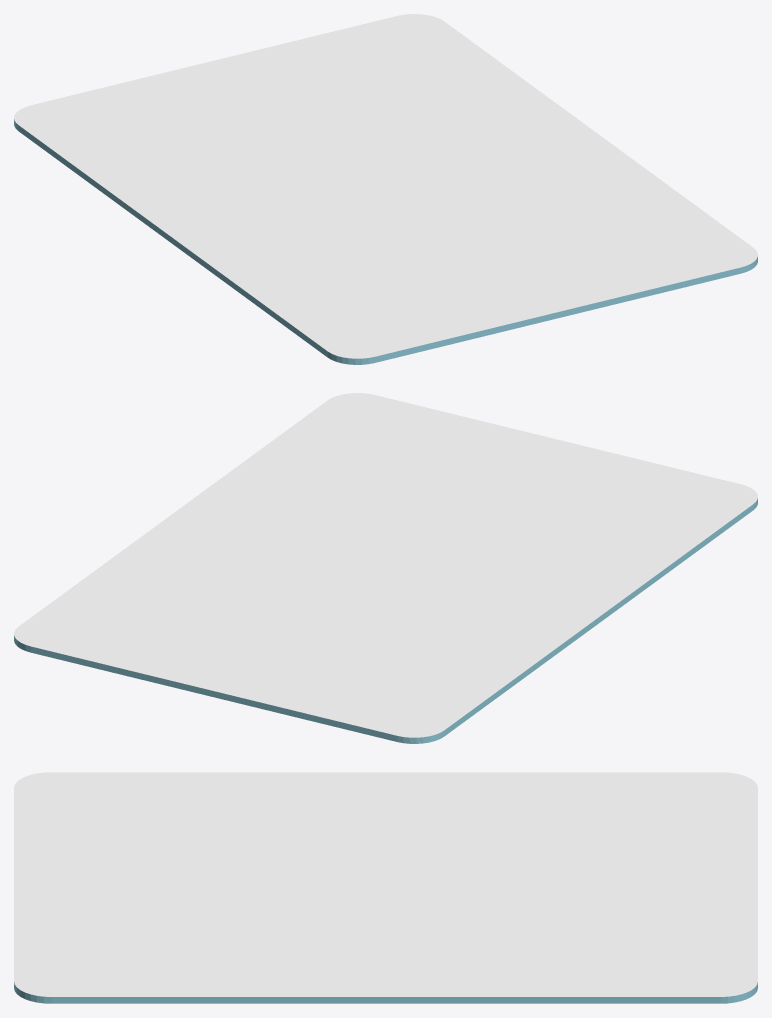
Rendered from card_shatter_10.glb.
3 renders of one model, top to bottom at view 1: azimuth 30°, elevation 25°; view 2: azimuth 150°, elevation 25°; view 3: azimuth 270°, elevation 25°, orthographic. The views are drawn at different scales.
Parts seen in each view (by area): view 1: V10_CardPiece_04, V10_CardPiece_06, V10_CardPiece_01, V10_CardPiece_05, V10_CardPiece_02, V10_CardPiece_03, V10_CardPiece_10, V10_CardPiece_08, V10_CardPiece_09, V10_CardPiece_07; view 2: V10_CardPiece_06, V10_CardPiece_04, V10_CardPiece_05, V10_CardPiece_01, V10_CardPiece_08, V10_CardPiece_10, V10_CardPiece_02, V10_CardPiece_03, V10_CardPiece_09, V10_CardPiece_07; view 3: V10_CardPiece_05, V10_CardPiece_04, V10_CardPiece_06, V10_CardPiece_10, V10_CardPiece_01, V10_CardPiece_08, V10_CardPiece_02, V10_CardPiece_03, V10_CardPiece_09, V10_CardPiece_07.
Part boxes in pixels (x1=…): V10_CardPiece_04: x1=469, y1=185, x2=757, y2=320; V10_CardPiece_06: x1=14, y1=90, x2=244, y2=238; V10_CardPiece_01: x1=165, y1=215, x2=413, y2=364; V10_CardPiece_05: x1=432, y1=117, x2=756, y2=251; V10_CardPiece_02: x1=282, y1=193, x2=489, y2=353; V10_CardPiece_03: x1=367, y1=164, x2=548, y2=334; V10_CardPiece_10: x1=314, y1=14, x2=575, y2=133; V10_CardPiece_08: x1=93, y1=54, x2=411, y2=159; V10_CardPiece_09: x1=242, y1=36, x2=498, y2=164; V10_CardPiece_07: x1=179, y1=124, x2=430, y2=215; V10_CardPiece_06: x1=335, y1=602, x2=590, y2=743; V10_CardPiece_04: x1=334, y1=393, x2=565, y2=534; V10_CardPiece_05: x1=150, y1=397, x2=342, y2=559; V10_CardPiece_01: x1=497, y1=474, x2=757, y2=628; V10_CardPiece_08: x1=187, y1=569, x2=361, y2=726; V10_CardPiece_10: x1=14, y1=530, x2=221, y2=672; V10_CardPiece_02: x1=411, y1=456, x2=700, y2=588; V10_CardPiece_03: x1=318, y1=441, x2=625, y2=568; V10_CardPiece_09: x1=114, y1=550, x2=318, y2=690; V10_CardPiece_07: x1=317, y1=559, x2=516, y2=672; V10_CardPiece_05: x1=40, y1=914, x2=440, y2=1003; V10_CardPiece_04: x1=14, y1=880, x2=341, y2=1002; V10_CardPiece_06: x1=396, y1=772, x2=757, y2=836; V10_CardPiece_10: x1=435, y1=937, x2=757, y2=1003; V10_CardPiece_01: x1=14, y1=772, x2=403, y2=827; V10_CardPiece_08: x1=432, y1=820, x2=757, y2=909; V10_CardPiece_02: x1=14, y1=808, x2=380, y2=872; V10_CardPiece_03: x1=14, y1=848, x2=409, y2=917; V10_CardPiece_09: x1=409, y1=899, x2=757, y2=957; V10_CardPiece_07: x1=378, y1=813, x2=635, y2=914.
Size of the model in its own units: 0.429 by 0.006 by 0.6.
